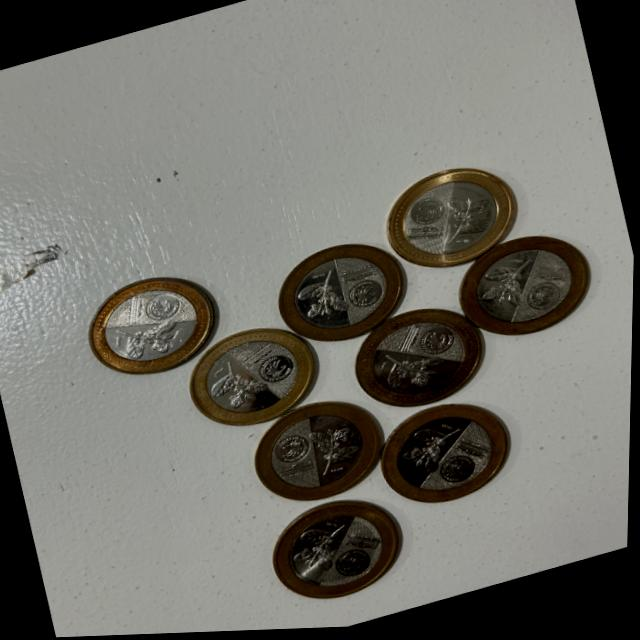20_New_Back: (290, 266, 358, 330), (207, 352, 271, 417), (475, 260, 541, 319), (437, 190, 504, 248), (294, 518, 355, 579), (403, 422, 467, 480), (114, 315, 187, 364), (379, 342, 444, 396), (310, 424, 360, 474)
